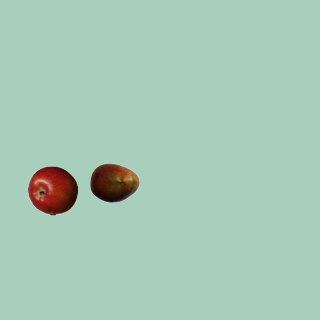Apple Braeburn: (27, 165, 77, 215)
Mango Red: (89, 157, 139, 207)
